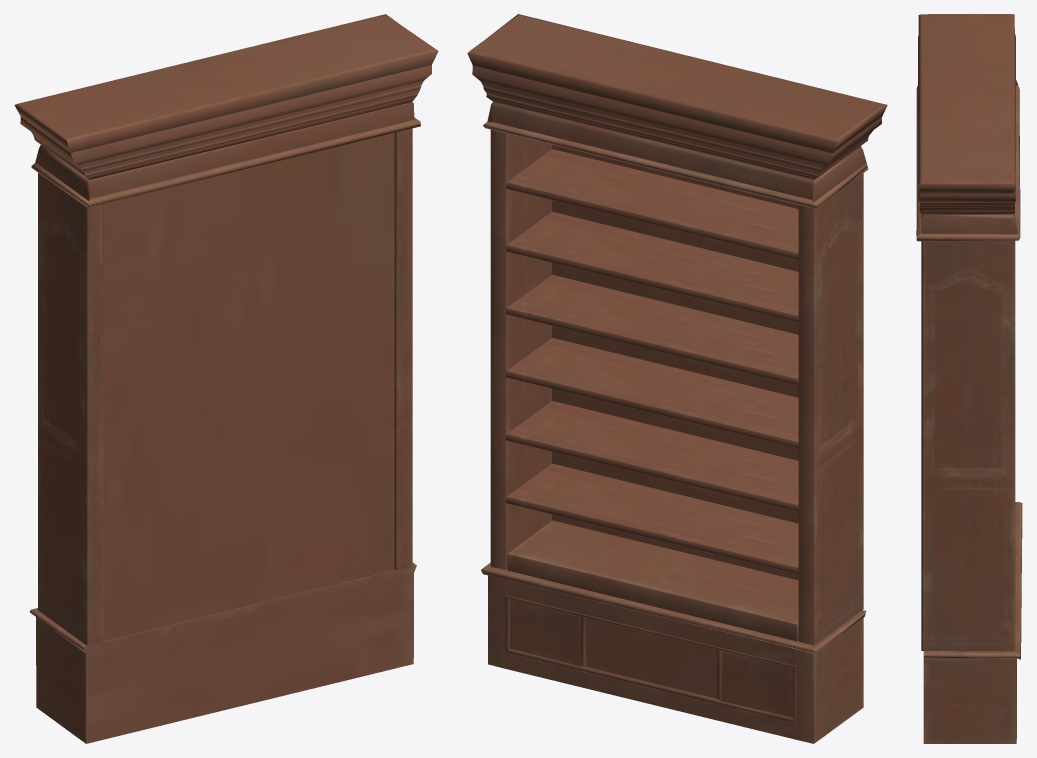
File: SM_bookcase_low_974791.glb
The picture shows the model from 3 angles, left to right: view 1: azimuth 30°, elevation 25°; view 2: azimuth 150°, elevation 25°; view 3: azimuth 270°, elevation 25°; orthographic projection. The views are drawn at different scales.
Size of the model in its own units: 2.36 by 3.69 by 0.6209.
Materials: 1 (1 with a texture image).
